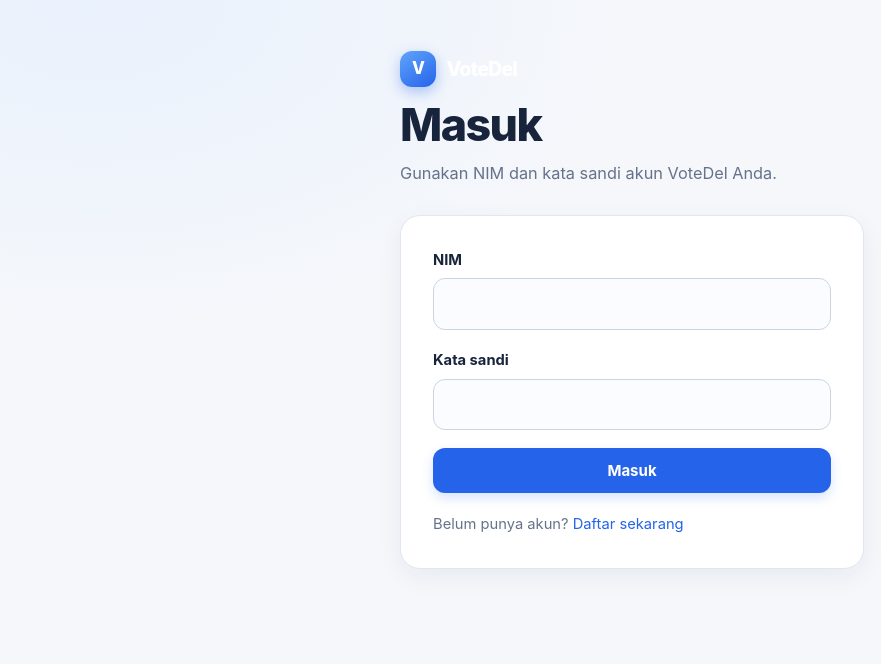
Test: halaman autentikasi › login gagal menampilkan pesan dari server
The image size is (881, 664).
Type "11S24001" into the field labelled "NIM" at [632, 304], box [433, 278, 831, 330]
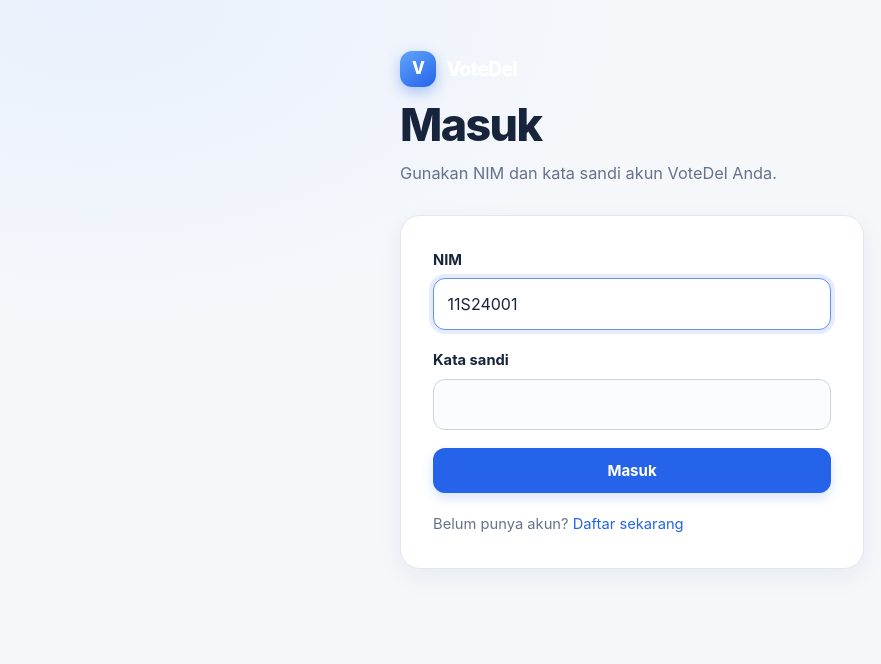
Type "salah123" into the password field labelled "Kata sandi" at [632, 404], box [433, 378, 831, 430]
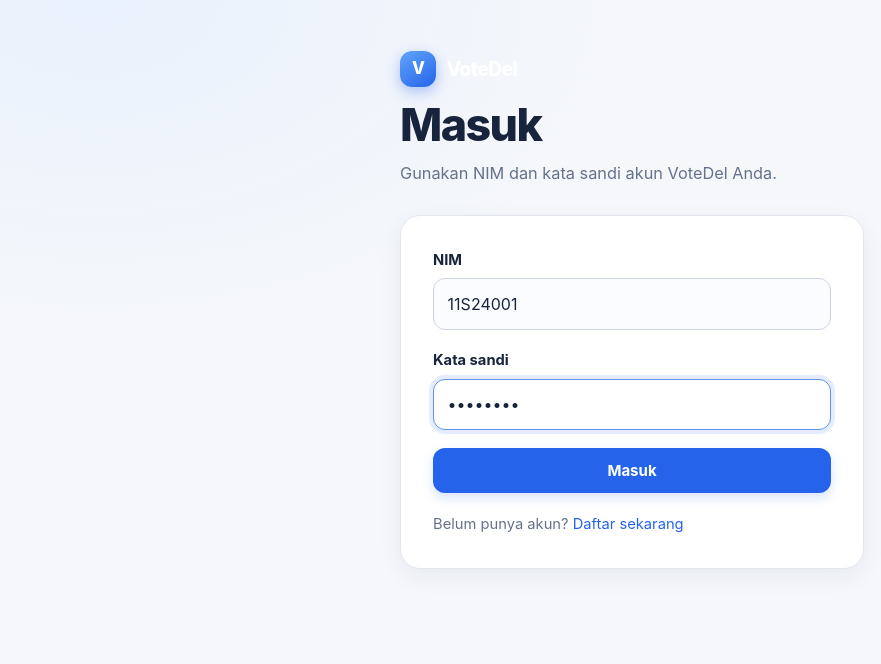
Click the button "Masuk" at [632, 471], box [433, 448, 831, 493]
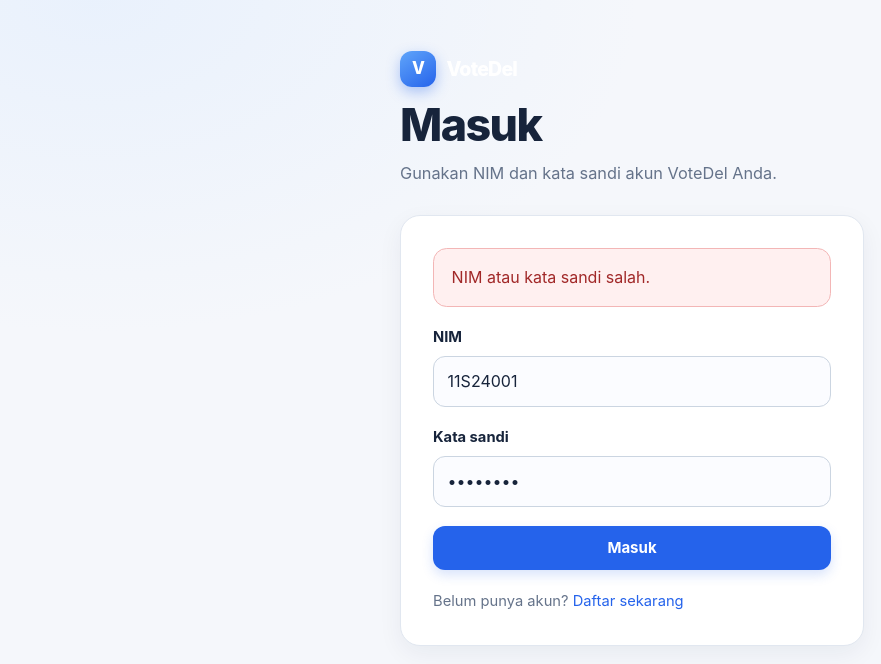
Check: the message reads "NIM atau kata sandi salah.", box [452, 267, 650, 287]
